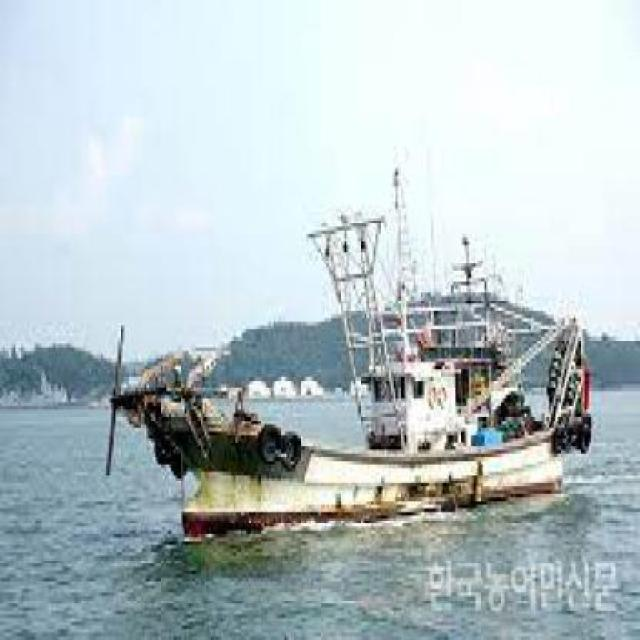fish-b: (106, 162, 610, 542)
